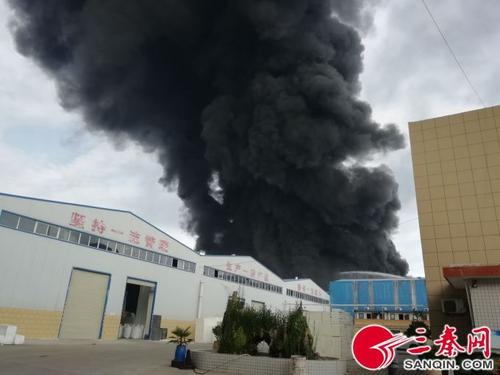smoke: (69, 3, 406, 270)
